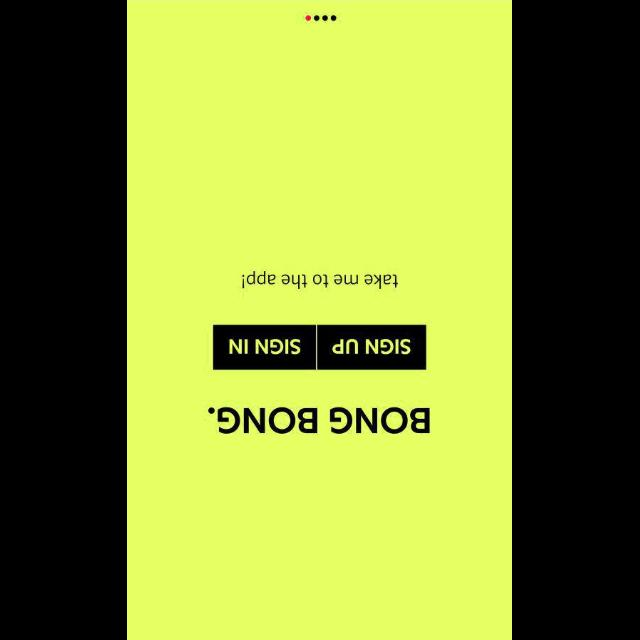pageindicator: (305, 15, 337, 22)
text: (209, 406, 431, 434), (243, 271, 399, 289)
textbutton: (318, 324, 427, 370), (214, 324, 316, 370)
